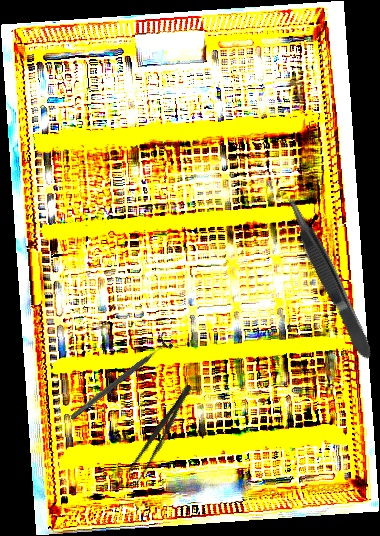Dressing Forceps: (121, 380, 198, 489)
Fixation Ring: (65, 331, 175, 426)
Tissue Forceps: (280, 190, 377, 364)
